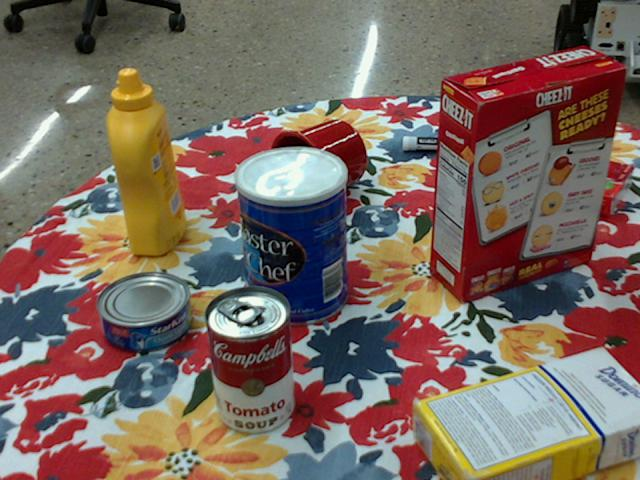cracker_box: (433, 48, 626, 303)
gelatin_box: (546, 152, 630, 215)
large_marker: (402, 135, 498, 151)
master_chef_can: (233, 146, 346, 326)
mug: (267, 119, 366, 210)
mustard_bottle: (107, 70, 186, 256)
sugar_box: (413, 346, 639, 479)
tomato_soup_can: (203, 285, 293, 433)
tuna_fish_can: (96, 270, 191, 350)
